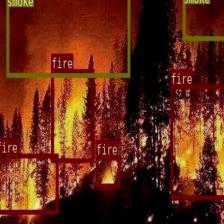fire: (170, 84, 224, 198), (51, 68, 93, 162), (0, 153, 58, 213), (96, 155, 120, 188)
smoke: (6, 0, 129, 77), (182, 0, 224, 39)
